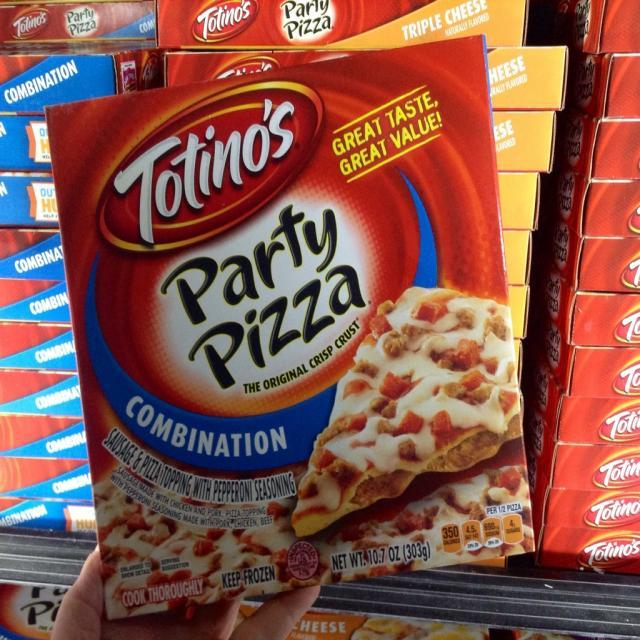Pizza: (288, 278, 529, 538), (103, 466, 536, 587)
